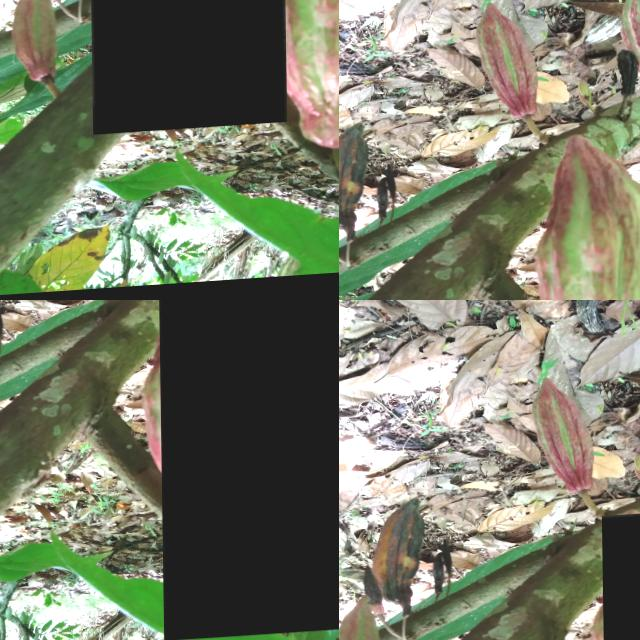Fitoftora: (369, 502, 430, 606)
Sana: (157, 300, 339, 640), (87, 0, 285, 137), (496, 171, 591, 300), (523, 384, 595, 497), (622, 142, 640, 283), (339, 597, 380, 640)
